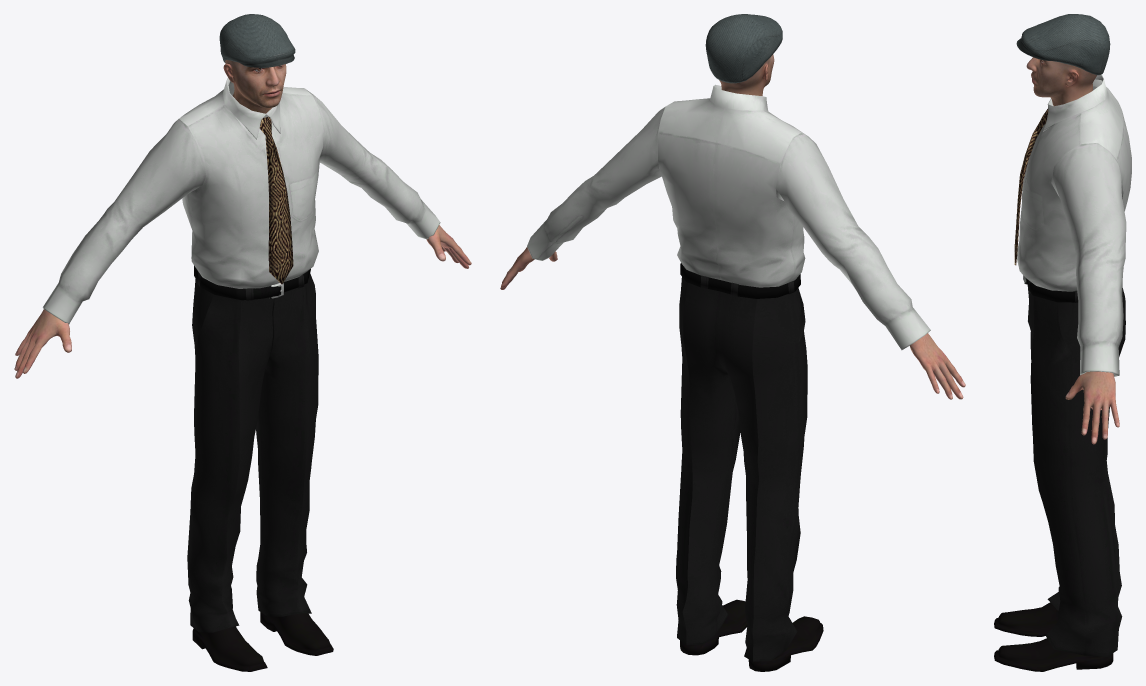
Rendered from ribbert.glb.
3 renders of one model, left to right at view 1: azimuth 30°, elevation 25°; view 2: azimuth 150°, elevation 25°; view 3: azimuth 270°, elevation 25°, orthographic.
Visible parts, largest first — view 1: base ribbert, base ribbert.001, AvatarBody, AvatarHead.001; view 2: base ribbert, base ribbert.001, AvatarBody, AvatarHead.001; view 3: base ribbert, base ribbert.001, AvatarHead.001, AvatarBody.
Boxes of the visible parts, <box> form: base ribbert: <box>42,78,440,671</box>; base ribbert.001: <box>219,14,295,67</box>; AvatarBody: <box>14,225,471,378</box>; AvatarHead.001: <box>223,60,286,113</box>; base ribbert: <box>527,85,930,671</box>; base ribbert.001: <box>705,14,782,83</box>; AvatarBody: <box>500,247,965,399</box>; AvatarHead.001: <box>719,54,774,95</box>; base ribbert: <box>994,74,1131,671</box>; base ribbert.001: <box>1016,14,1110,75</box>; AvatarHead.001: <box>1026,57,1096,106</box>; AvatarBody: <box>1065,371,1119,444</box>.
Bounding box in the file's own units: 1.15 × 1.5 × 0.2988.
11 materials, 11 textured.
